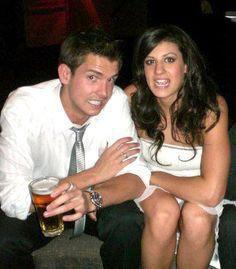Drunk: (75, 57, 116, 115), (141, 48, 185, 98)
